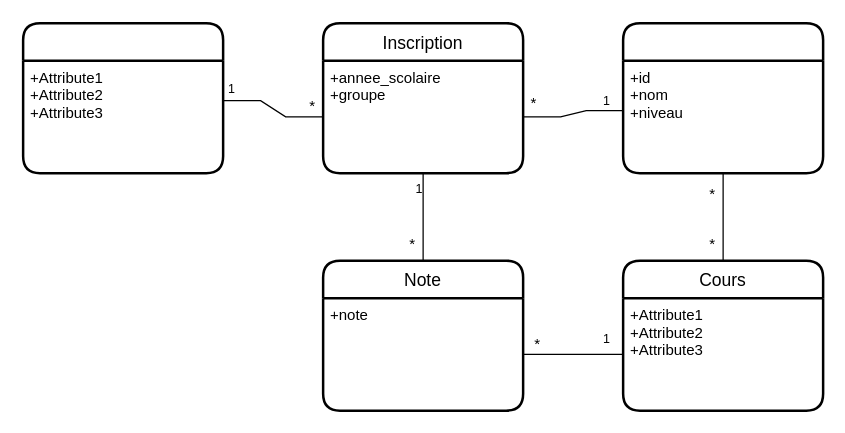
The diagram is 845 pixels wide and 433 high, and some of its shapes have lost their labels. Each missing label, with the box of its shape:
Etudiant: (21, 21, 224, 174)
Section: (621, 21, 824, 174)
